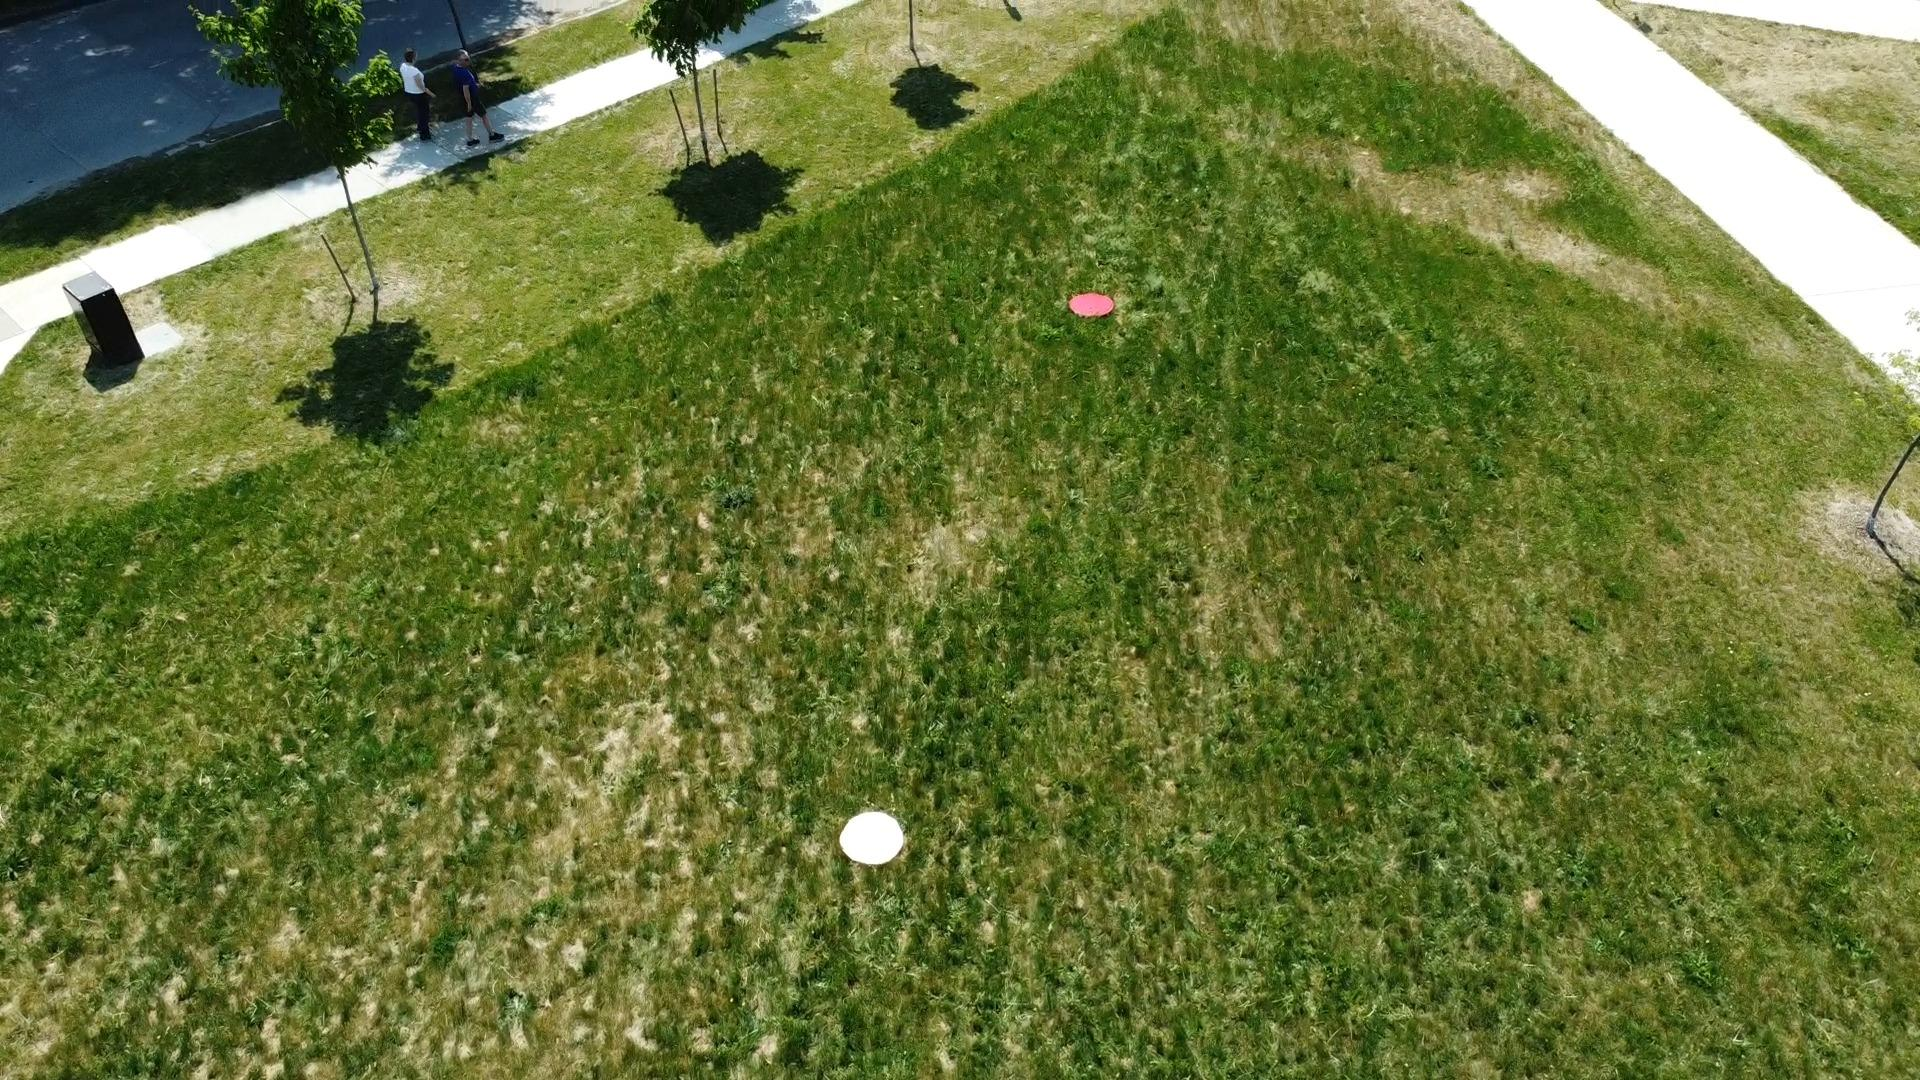Red: (1067, 291, 1116, 319)
Unknown: (839, 810, 907, 866)
